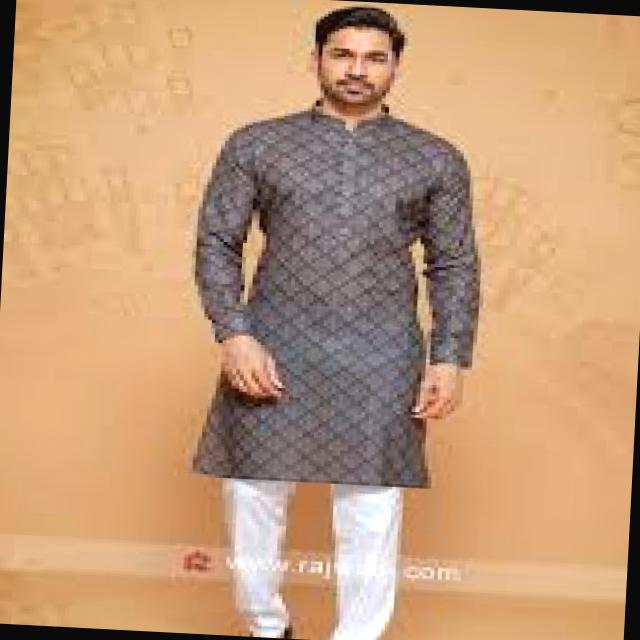kurta_bottom: (202, 333, 434, 495)
kurta_left: (405, 184, 524, 376)
kurta_right: (161, 166, 304, 356)
